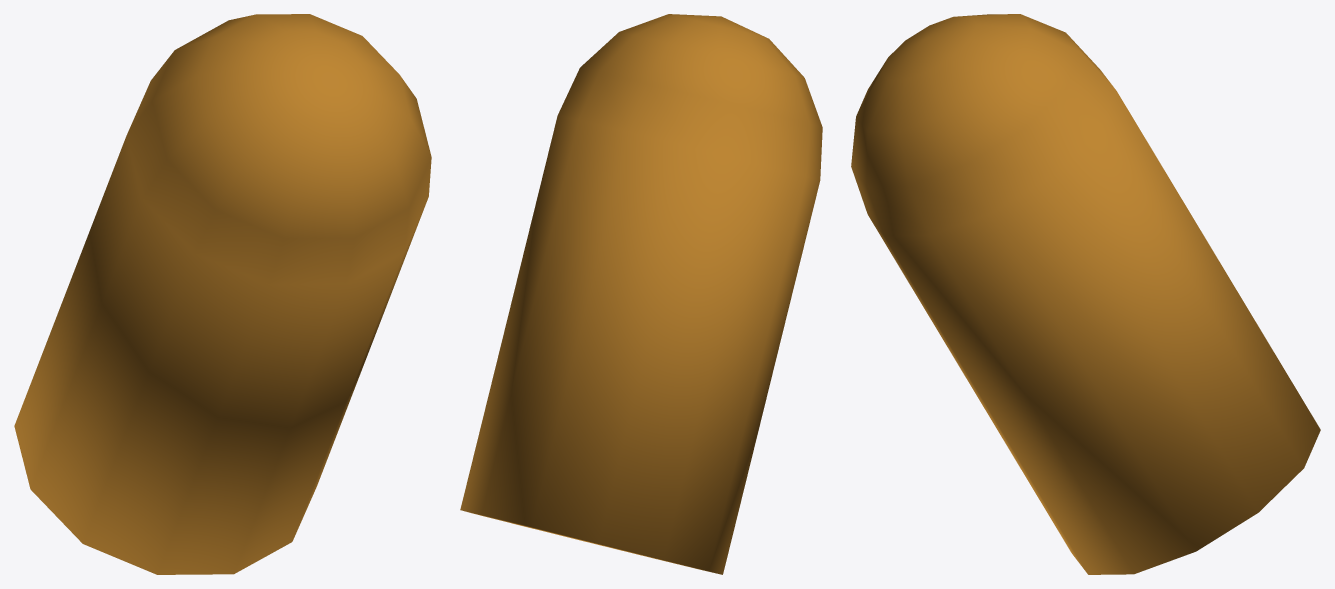
File: ammo_pickup.fbx
3 renders of one model, left to right at view 1: azimuth 30°, elevation 25°; view 2: azimuth 150°, elevation 25°; view 3: azimuth 270°, elevation 25°, orthographic. The views are drawn at different scales.
Visible parts, largest first — view 1: Bullet; view 2: Bullet; view 3: Bullet.
Part boxes in pixels (x1=…): Bullet: x1=14, y1=14, x2=431, y2=574; Bullet: x1=460, y1=14, x2=822, y2=574; Bullet: x1=851, y1=14, x2=1320, y2=574.
Size of the model in its own units: 32.7 by 67.14 by 54.11.
